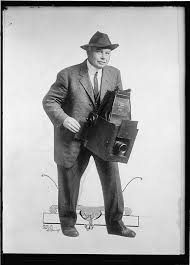person: (56, 32, 138, 111)
